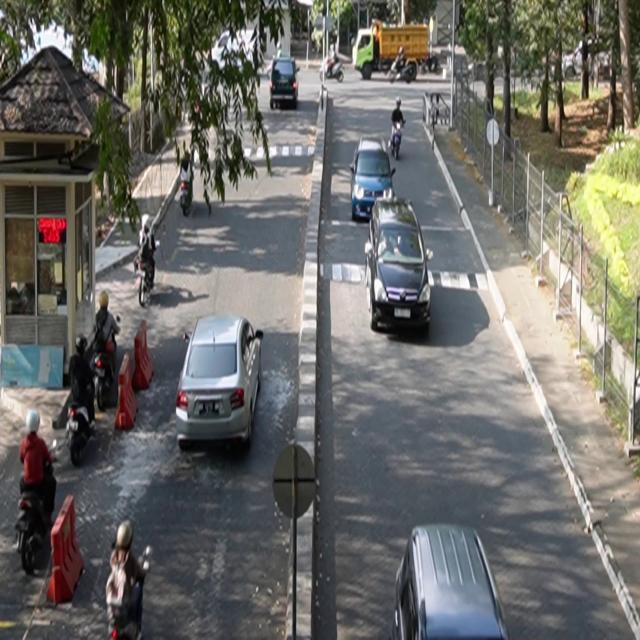car: (392, 524, 511, 640), (176, 314, 265, 451), (365, 197, 434, 334), (350, 136, 397, 222), (269, 57, 300, 110)
truck: (353, 21, 431, 83)
